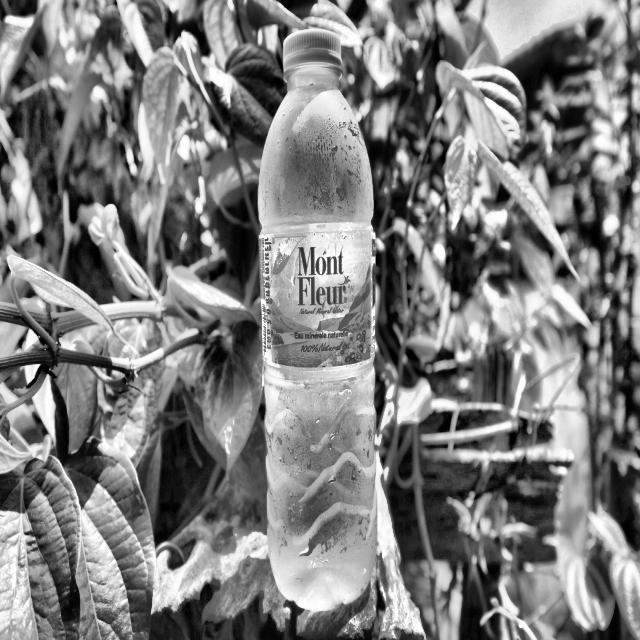waterbottle: (250, 17, 387, 626)
